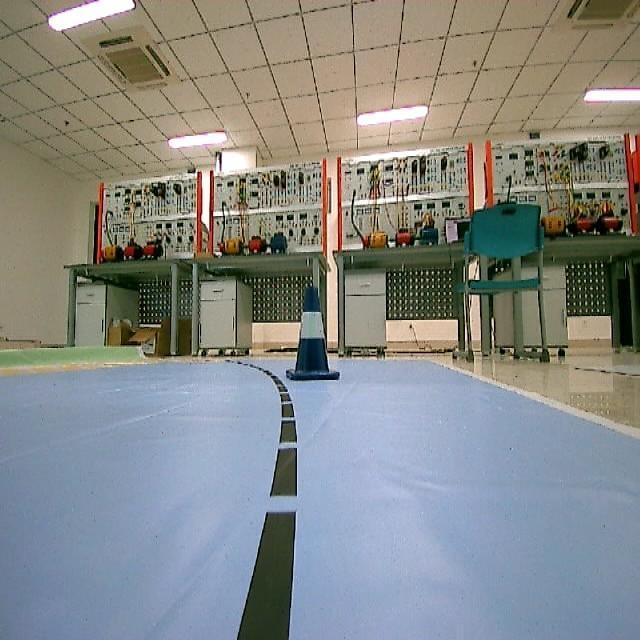obstacle: (280, 282, 348, 390)
